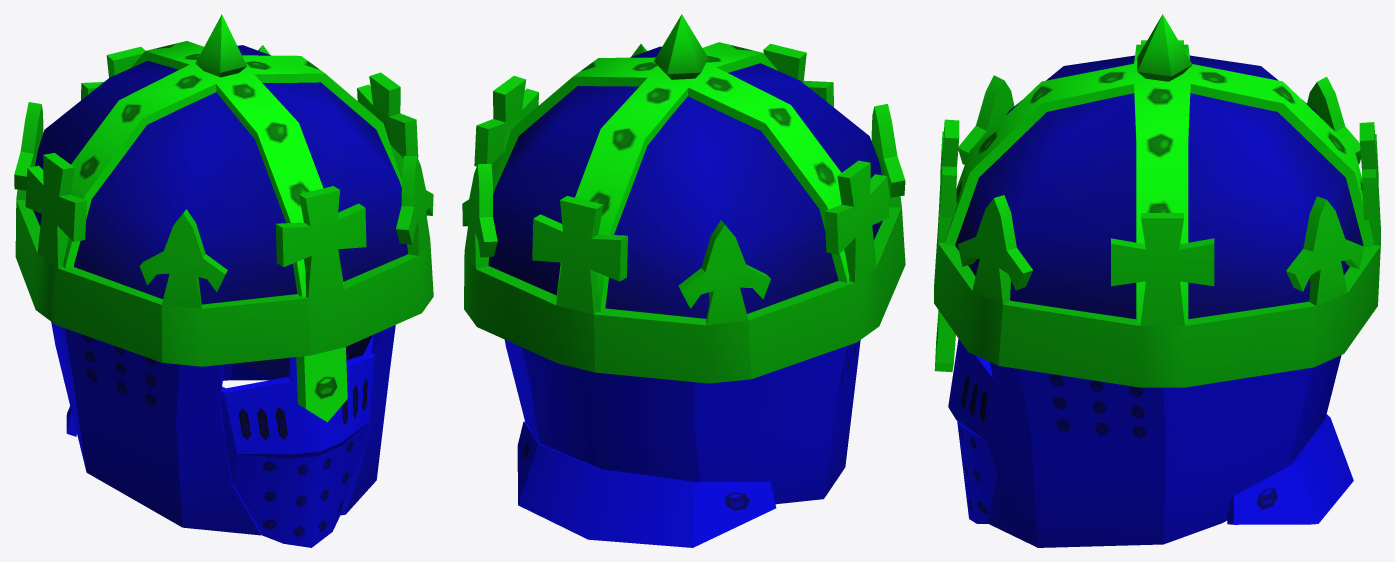
Rendered from CrownedHelm.fbx.
3 renders of one model, left to right at view 1: azimuth 30°, elevation 25°; view 2: azimuth 150°, elevation 25°; view 3: azimuth 270°, elevation 25°, orthographic. The views are drawn at different scales.
Visible parts, largest first — view 1: CrownedHelm, CrownedHelm_Mask; view 2: CrownedHelm; view 3: CrownedHelm, CrownedHelm_Mask.
Boxes of the visible parts, left/top/right/bottom form: CrownedHelm: left=14, top=14, right=433, bottom=535; CrownedHelm_Mask: left=220, top=335, right=375, bottom=547; CrownedHelm: left=462, top=14, right=905, bottom=547; CrownedHelm: left=934, top=14, right=1380, bottom=547; CrownedHelm_Mask: left=948, top=338, right=996, bottom=523.
Size of the model in its own units: 31.1 by 39.43 by 31.61.
